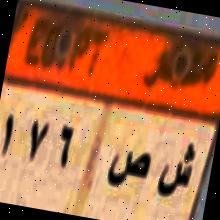1: (0, 106, 20, 168)
6: (53, 120, 77, 180)
7: (22, 107, 51, 170)
saad: (102, 141, 154, 200)
sheen: (153, 136, 200, 206)
